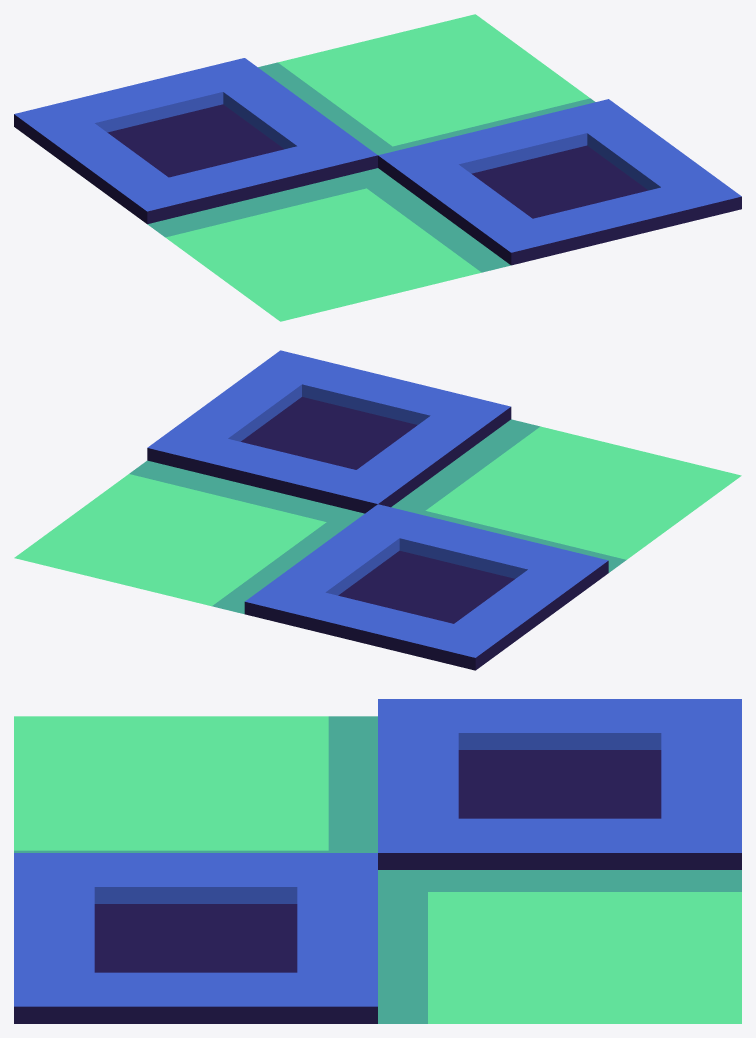
The model's file is plitka.fbx.
The picture shows the model from 3 angles, top to bottom: view 1: azimuth 30°, elevation 25°; view 2: azimuth 150°, elevation 25°; view 3: azimuth 270°, elevation 25°; orthographic projection. The views are drawn at different scales.
Parts seen in each view (by area): view 1: Плоскость; view 2: Плоскость; view 3: Плоскость.
Part boxes in pixels (x1,y1,x2,y2): Плоскость: (14,14,741,321); Плоскость: (14,350,741,670); Плоскость: (14,699,741,1023).
Bounding box in the file's own units: 200 × 5.25 × 200.
